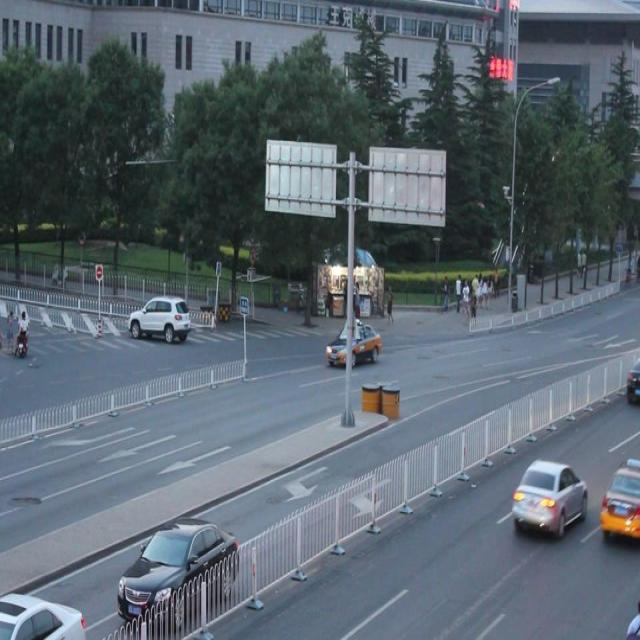car: (118, 518, 240, 614), (512, 457, 586, 535), (1, 585, 85, 640), (599, 459, 640, 537), (128, 298, 191, 343), (324, 320, 381, 367)
